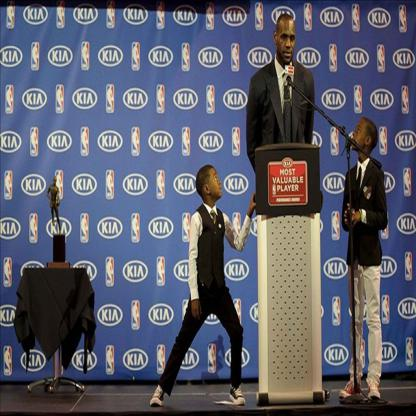face: (279, 22, 296, 65), (352, 120, 368, 151), (209, 168, 223, 198)
